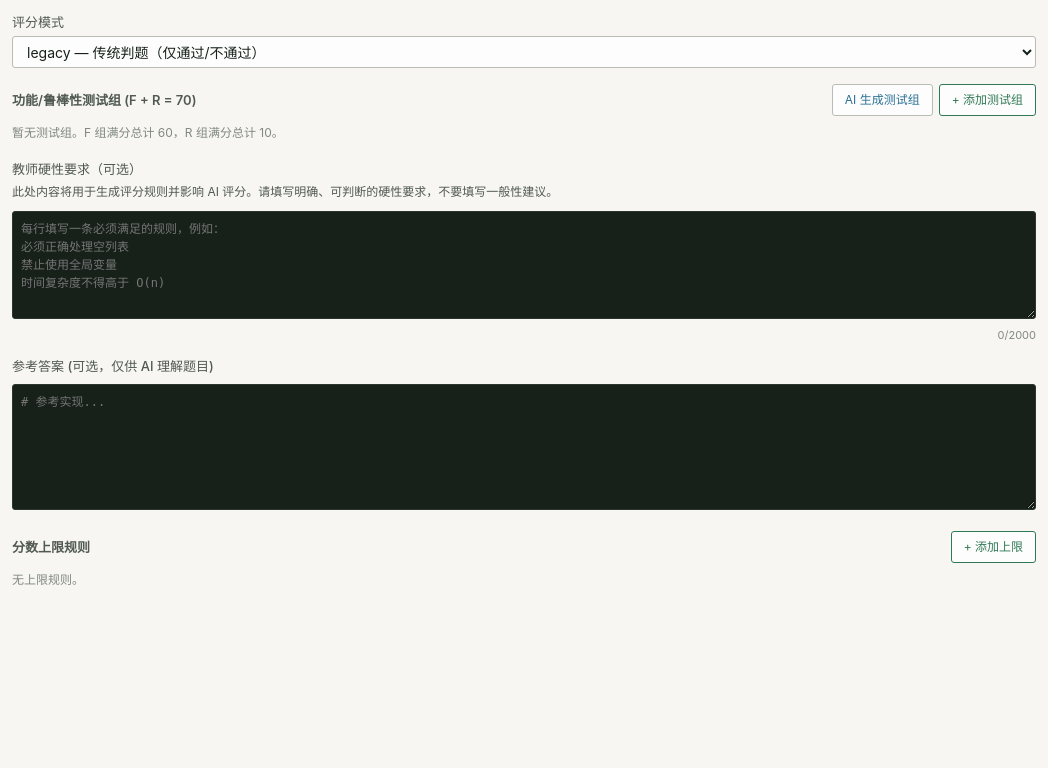
Test: AiConfigForm 草稿模式（无 questionId） › 测试组分数合计提供本地校验提示（F=60、R=10）
Click the button "+ 添加测试组" at (987, 100), box [939,84,1036,116]
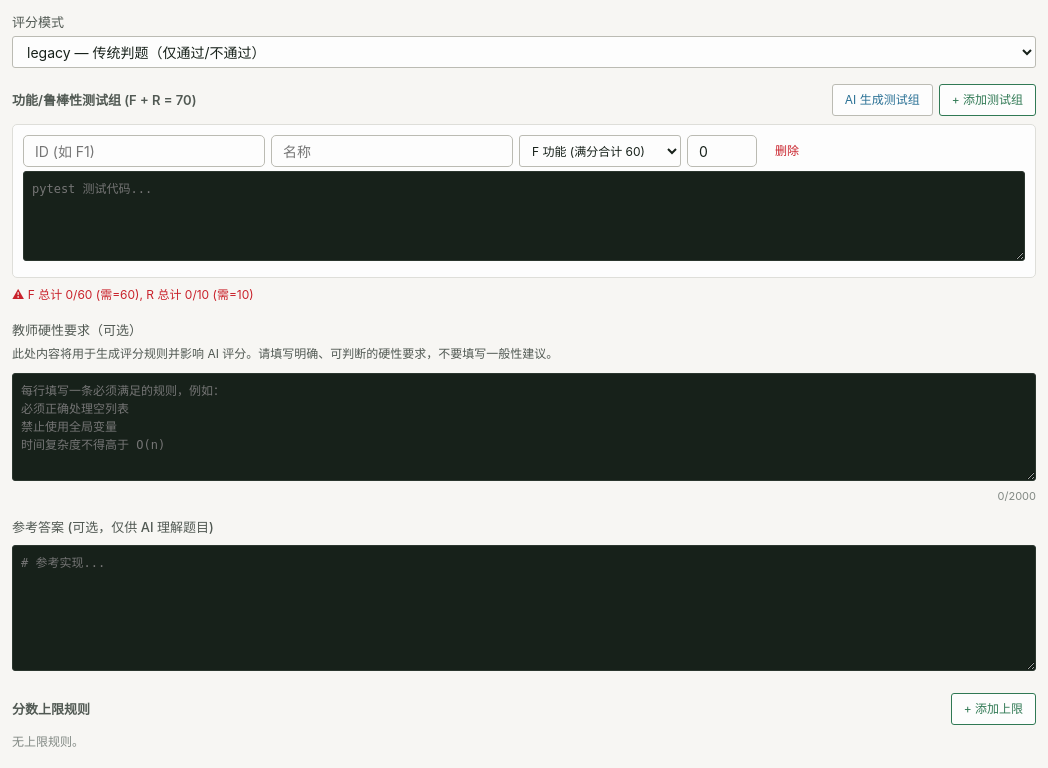
Type "F1" into the field with placeholder "ID (如 F1)" at (144, 151), box [23,135,265,167]
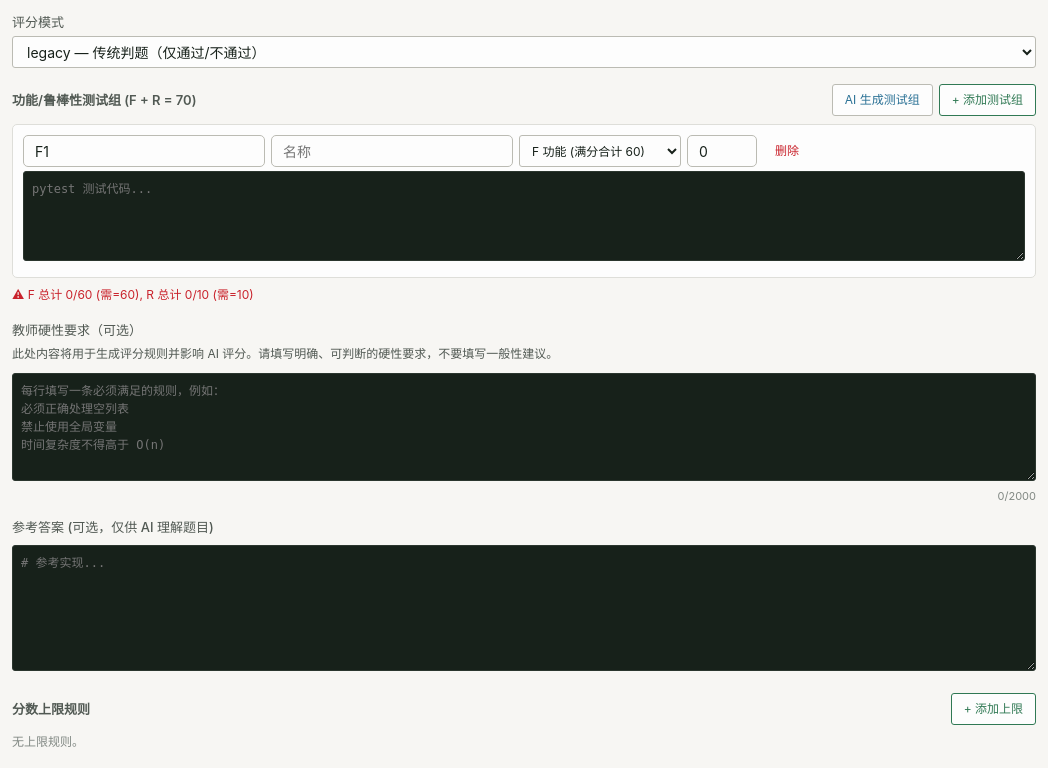
Type "基础" into the field with placeholder "名称" at (392, 151), box [271,135,513,167]
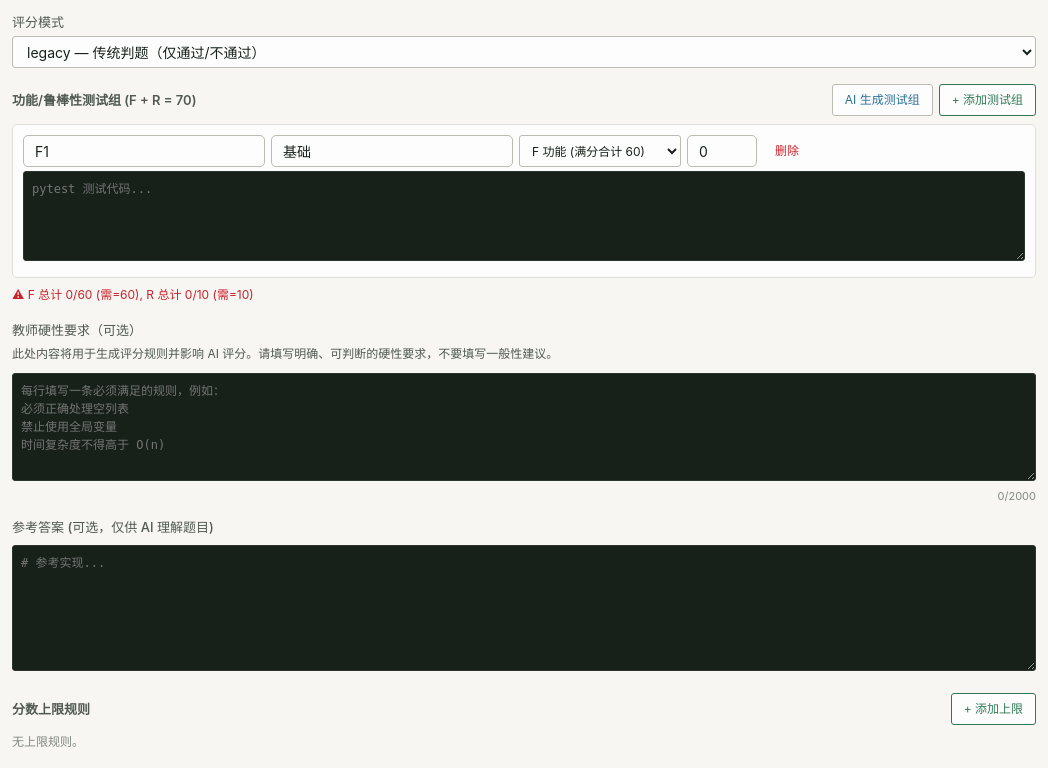
Replace the text in the number field with placeholder "满分" with "60" at (722, 151), box [687,135,757,167]
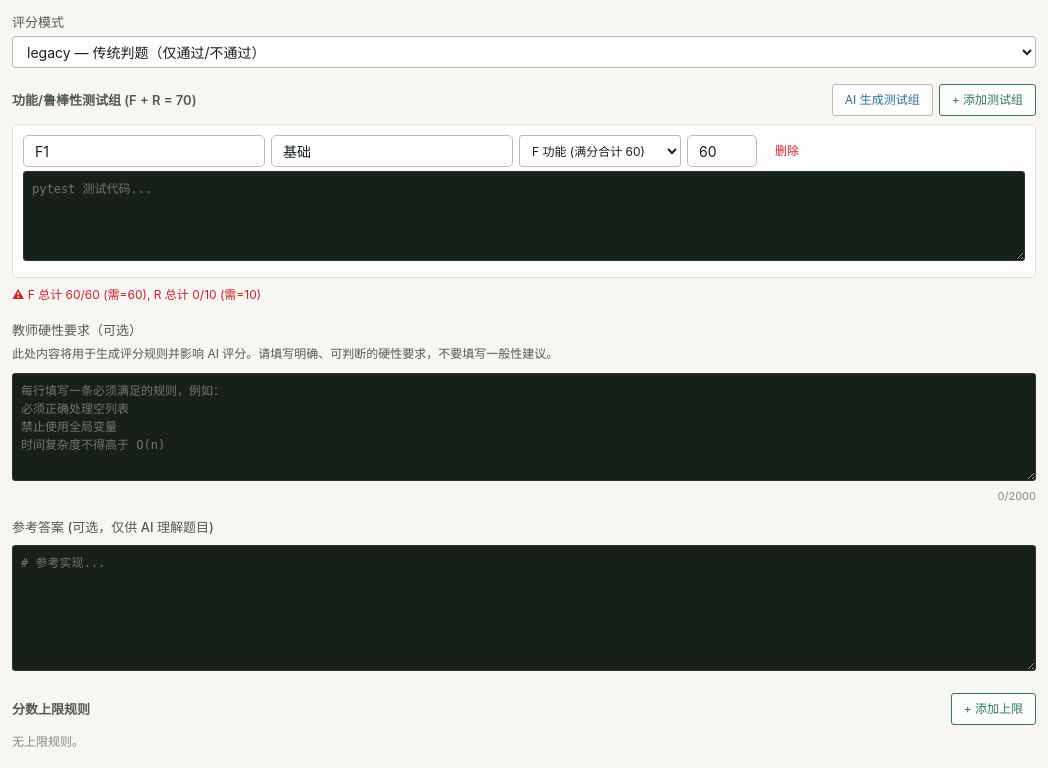
Expected: the text "R 总计 0/10" is shown, [12,287,261,302]
Expected: the text "F 总计 60/60" is shown, [12,287,261,302]
